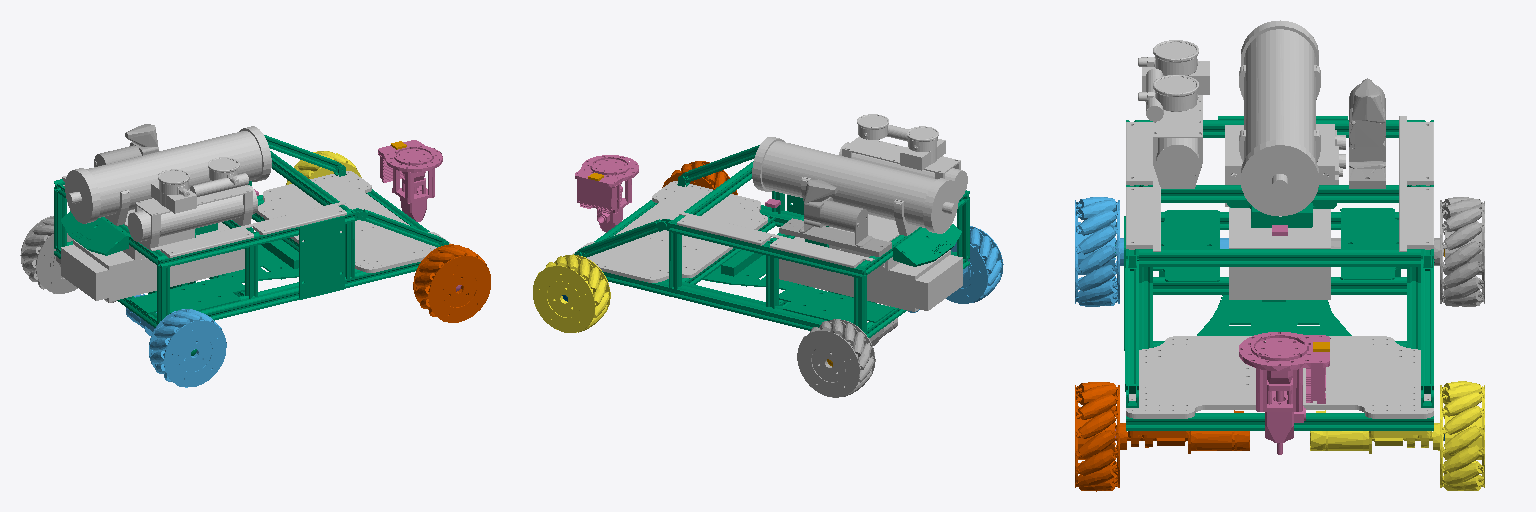
--- Render facts (derived) ---
3 views of the same robot in one strip: view 1: azimuth 30°, elevation 25°; view 2: azimuth 150°, elevation 25°; view 3: azimuth 270°, elevation 25° (orthographic).
Model armstone with 34 links and 33 joints (6 revolute, 4 continuous, 23 fixed), rooted at base_link_footprint, posed all joints at 0.
Links seen in each view (by area): view 1: base_link, material3_link, ic_link, mount_plate_link, battery48_link, motor_gearbox_br, motor_gearbox_fr, extruder_link, cover_plate_link, motor_gearbox_bl, compressor_link, motor_gearbox_fl (+1 smaller); view 2: base_link, material3_link, mount_plate_link, battery48_link, motor_gearbox_bl, ic_link, motor_gearbox_fl, compressor_link, extruder_link, cover_plate_link, motor_gearbox_br, dc_box_link (+1 smaller); view 3: base_link, mount_plate_link, material3_link, cover_plate_link, ic_link, motor_gearbox_fr, motor_gearbox_fl, extruder_link, battery48_link, motor_gearbox_bl, motor_gearbox_br, compressor_link (+1 smaller).
Boxes of the visible links, x1,y1,x2,y2 form: base_link: (54,135,448,327); material3_link: (65,126,271,225); ic_link: (128,157,257,249); mount_plate_link: (256,171,450,272); battery48_link: (61,222,244,301); motor_gearbox_br: (126,294,226,387); motor_gearbox_fr: (413,244,490,322); extruder_link: (378,140,442,221); cover_plate_link: (62,176,346,257); motor_gearbox_bl: (20,216,116,302); compressor_link: (94,124,158,166); motor_gearbox_fl: (286,151,361,184); base_link: (574,145,969,337); material3_link: (752,137,958,235); mount_plate_link: (572,181,767,282); battery48_link: (779,237,962,311); motor_gearbox_bl: (797,305,897,397); ic_link: (839,114,967,199); motor_gearbox_fl: (533,254,610,332); compressor_link: (779,179,891,256); extruder_link: (575,155,638,232); cover_plate_link: (677,212,874,267); motor_gearbox_br: (908,226,1003,312); dc_box_link: (829,214,899,270); base_link: (1124,116,1434,430); mount_plate_link: (1126,336,1433,418); material3_link: (1239,20,1320,216); cover_plate_link: (1126,116,1433,251); ic_link: (1138,40,1209,188); motor_gearbox_fr: (1075,382,1249,491); motor_gearbox_fl: (1310,381,1484,490); extruder_link: (1239,332,1330,454); battery48_link: (1229,207,1330,299); motor_gearbox_bl: (1331,197,1484,306); motor_gearbox_br: (1075,197,1228,306); compressor_link: (1349,78,1385,188).
Size in the robot's own frame: 0.8963 by 0.6045 by 0.4257 metres.
Meshes: 17 distinct files referenced, 13 mesh visuals loaded (10 binary STL); not drawn: 7 (reference not matched to a file when rendering).

robot.urdf — armstone:
<?xml version="1.0" encoding="utf-8"?>
<!-- =================================================================================== -->
<!-- |    This document was autogenerated by xacro from as.xacro                       | -->
<!-- |    EDITING THIS FILE BY HAND IS NOT RECOMMENDED                                 | -->
<!-- =================================================================================== -->
<robot name="armstone" xmlns:controller="http://playerstage.sourceforge.net/gazebo/xmlschema/#controller" xmlns:interface="http://playerstage.sourceforge.net/gazebo/xmlschema/#interface" xmlns:sensor="http://playerstage.sourceforge.net/gazebo/xmlschema/#sensor">
  <!-- alluminium frame only -->
  <material name="Orange">
    <color rgba="1.0 0.4 0.0 1.0"/>
  </material>
  <material name="Grey">
    <color rgba="0.7 0.7 0.7 1.0"/>
  </material>
  <material name="DarkGrey">
    <color rgba="0.3 0.3 0.3 1.0"/>
  </material>
  <material name="White">
    <color rgba="1.0 1.0 1.0 1.0"/>
  </material>
  <material name="Black">
    <color rgba="0.0 0.0 0.0 1.0"/>
  </material>
  <material name="Red">
    <color rgba="1.0 0.0 0.0 1.0"/>
  </material>
  <material name="Green">
    <color rgba="0.0 1.0 0.0 1.0"/>
  </material>
  <material name="Blue">
    <color rgba="0.0 0.0 0.8 1.0"/>
  </material>
  <material name="LightGrey">
    <color rgba="0.82 0.82 0.82 1.0"/>
  </material>
  <material name="OrangeClear">
    <color rgba="1.0 0.4 0.0 .5"/>
  </material>
  <material name="GreyClear">
    <color rgba="0.7 0.7 0.7 .5"/>
  </material>
  <material name="DarkGreyClear">
    <color rgba="0.3 0.3 0.3 .5"/>
  </material>
  <material name="WhiteClear">
    <color rgba="1.0 1.0 1.0 .5"/>
  </material>
  <material name="BlackClear">
    <color rgba="0.0 0.0 0.0 .5"/>
  </material>
  <material name="RedClear">
    <color rgba="1.0 0.0 0.0 .5"/>
  </material>
  <material name="GreenClear">
    <color rgba="0.0 1.0 0.0 .5"/>
  </material>
  <material name="BlueClear">
    <color rgba="0.0 0.0 0.8 .5"/>
  </material>
  <material name="LightGreyClear">
    <color rgba="0.82 0.82 0.82 .5"/>
  </material>
  
      iption)/urdf/base/as_base.macro.xacro&quot; /&gt;
      
      
  
      iption)/urdf/base/as_base.macro.xacro&quot; /&gt;
      
      
  <!-- Projection of base_link origin to xy plane -->
  <link name="base_link_footprint"/>
  <joint name="joint0" type="fixed">
    <parent link="base_link_footprint"/>
    <child link="base_link_base"/>
    <origin rpy="0 0 0" xyz="0 0 0.1005"/>
  </joint>
  <!-- Projection of base_link origin to bottom of baselink collision box (i.e. raised only by wheels) -->
  <link name="base_link_base"/>
  <joint name="joint1" type="fixed">
    <parent link="base_link_base"/>
    <child link="base_link"/>
    <origin rpy="0 0 0" xyz="0 0 0.086"/>
  </joint>
  <!-- baselink -->
  <link name="base_link">
    <inertial>
      <origin rpy="0 0 0" xyz="0 0 0"/>
      <mass value="3.5"/>
      <inertia ixx="0.0690109583333" ixy="0" ixz="0" iyy="0.159828666667" iyz="0" izz="0.211582291667"/>
    </inertial>
    <visual>
      <origin rpy="0 0 0" xyz="0.35 0 -0.072"/>
      <geometry>
        <mesh filename="package://as_description/meshes/chasis.stl"/>
      </geometry>
    </visual>
    <collision>
      <origin rpy="0 0 0" xyz="-0.125 0 0"/>
      <geometry>
        <box size="0.47 0.455 0.172"/>
      </geometry>
    </collision>
    <collision>
      <origin rpy="0 0 0" xyz="0 0 -0.071"/>
      <geometry>
        <box size="0.72 0.455 0.035"/>
      </geometry>
    </collision>
    <collision>
      <origin rpy="0 -1.0471975512 0" xyz="0.235 0.2175 0.015"/>
      <geometry>
        <box size=" 0.025 0.025 0.29"/>
      </geometry>
    </collision>
    <collision>
      <origin rpy="0 -1.0471975512 0" xyz="0.235 -0.2175 0.015"/>
      <geometry>
        <box size=" 0.025 0.025 0.29"/>
      </geometry>
    </collision>
    <gazebo reference="base_link">
      <material>Gazebo/DarkGrey</material>
    </gazebo>
  </link>
  <link name="motor_gearbox_fl">
    <inertial>
      <origin rpy="0 0 0" xyz="0 0 0"/>
      <mass value="0.5"/>
      <inertia ixx="0.00209479166667" ixy="0" ixz="0" iyy="0.00209479166667" iyz="0" izz="0.00015625"/>
    </inertial>
    <visual>
      <origin rpy="1.57079632679 -1.57079632679 0" xyz="0 0.0245 0.025"/>
      <geometry>
        <mesh filename="package://as_description/meshes/motor.stl"/>
      </geometry>
    </visual>
    <collision>
      <geometry>
        <cylinder length="0.22" radius="0.025"/>
      </geometry>
    </collision>
  </link>
  <joint name="motor_wheel_joint_fl" type="continuous">
    <parent link="motor_gearbox_fl"/>
    <child link="omniwheel_fl"/>
    <origin rpy="0 0.785398163397 0" xyz="0 0 0.11"/>
    <axis xyz="-1 0 0"/>
    <limit effort="100" velocity="5"/>
    <dynamics damping="1.5" friction="1.0"/>
  </joint>
  <transmission name="motor_wheel_joint_transmission_fl">
    <type>transmission_interface/SimpleTransmission</type>
    <joint name="motor_wheel_joint_fl">
      <hardwareInterface>hardware_interface/VelocityJointInterface</hardwareInterface>
    </joint>
    <actuator name="motor_wheel_joint_actuator_fl">
      <mechanicalReduction>1</mechanicalReduction>
      <hardwareInterface>VelocityJointInterface</hardwareInterface>
    </actuator>
  </transmission>
  <link name="omniwheel_fl">
    <inertial>
      <origin rpy="0 0 0" xyz="0 0 0"/>
      <mass value="0.6"/>
      <inertia ixx="0.00034656" ixy="0" ixz="0" iyy="0.00034656" iyz="0" izz="0.00034656"/>
    </inertial>
    <!-- No visual. -->
    <collision>
      <geometry>
        <sphere radius="0.076"/>
      </geometry>
    </collision>
    <visual>
      <!-- dummy visual so gazebo doesnt freakout -->
      <geometry>
        <sphere radius="0.0253333333333"/>
      </geometry>
    </visual>
    <surface>
      <bounce restitution_coefficient="0.0001"/>
    </surface>
  </link>
  <gazebo reference="omniwheel_fl">
    <!-- not sure if mu or mu1 is used -->
    <mu1 value="0.15"/>
    <mu2 value="1.5"/>
    <kp value="10000000.0"/>
    <kd value="10000.0"/>
    <fdir1 value="1 0 0"/>
    <!-- <maxContacts value= "1"/> -->
    <material>Gazebo/White</material>
  </gazebo>
  <link name="motor_gearbox_fr">
    <inertial>
      <origin rpy="0 0 0" xyz="0 0 0"/>
      <mass value="0.5"/>
      <inertia ixx="0.00209479166667" ixy="0" ixz="0" iyy="0.00209479166667" iyz="0" izz="0.00015625"/>
    </inertial>
    <visual>
      <origin rpy="1.57079632679 -1.57079632679 0" xyz="0 0.0245 0.025"/>
      <geometry>
        <mesh filename="package://as_description/meshes/motor.stl"/>
      </geometry>
    </visual>
    <collision>
      <geometry>
        <cylinder length="0.22" radius="0.025"/>
      </geometry>
    </collision>
  </link>
  <joint name="motor_wheel_joint_fr" type="continuous">
    <parent link="motor_gearbox_fr"/>
    <child link="omniwheel_fr"/>
    <origin rpy="0 -0.785398163397 0" xyz="0 0 0.11"/>
    <axis xyz="-1 0 0"/>
    <limit effort="100" velocity="5"/>
    <dynamics damping="1.5" friction="1.0"/>
  </joint>
  <transmission name="motor_wheel_joint_transmission_fr">
    <type>transmission_interface/SimpleTransmission</type>
    <joint name="motor_wheel_joint_fr">
      <hardwareInterface>hardware_interface/VelocityJointInterface</hardwareInterface>
    </joint>
    <actuator name="motor_wheel_joint_actuator_fr">
      <mechanicalReduction>1</mechanicalReduction>
      <hardwareInterface>VelocityJointInterface</hardwareInterface>
    </actuator>
  </transmission>
  <link name="omniwheel_fr">
    <inertial>
      <origin rpy="0 0 0" xyz="0 0 0"/>
      <mass value="0.6"/>
      <inertia ixx="0.00034656" ixy="0" ixz="0" iyy="0.00034656" iyz="0" izz="0.00034656"/>
    </inertial>
    <!-- No visual. -->
    <collision>
      <geometry>
        <sphere radius="0.076"/>
      </geometry>
    </collision>
    <visual>
      <!-- dummy visual so gazebo doesnt freakout -->
      <geometry>
        <sphere radius="0.0253333333333"/>
      </geometry>
    </visual>
    <surface>
      <bounce restitution_coefficient="0.0001"/>
    </surface>
  </link>
  <gazebo reference="omniwheel_fr">
    <!-- not sure if mu or mu1 is used -->
    <mu1 value="0.15"/>
    <mu2 value="1.5"/>
    <kp value="10000000.0"/>
    <kd value="10000.0"/>
    <fdir1 value="1 0 0"/>
    <!-- <maxContacts value= "1"/> -->
    <material>Gazebo/White</material>
  </gazebo>
  <link name="motor_gearbox_bl">
    <inertial>
      <origin rpy="0 0 0" xyz="0 0 0"/>
      <mass value="0.5"/>
      <inertia ixx="0.00209479166667" ixy="0" ixz="0" iyy="0.00209479166667" iyz="0" izz="0.00015625"/>
    </inertial>
    <visual>
      <origin rpy="1.57079632679 -1.57079632679 0" xyz="0 0.0245 0.025"/>
      <geometry>
        <mesh filename="package://as_description/meshes/motor.stl"/>
      </geometry>
    </visual>
    <collision>
      <geometry>
        <cylinder length="0.22" radius="0.025"/>
      </geometry>
    </collision>
  </link>
  <joint name="motor_wheel_joint_bl" type="continuous">
    <parent link="motor_gearbox_bl"/>
    <child link="omniwheel_bl"/>
    <origin rpy="0 -0.785398163397 0" xyz="0 0 0.11"/>
    <axis xyz="1 0 0"/>
    <limit effort="100" velocity="5"/>
    <dynamics damping="1.5" friction="1.0"/>
  </joint>
  <transmission name="motor_wheel_joint_transmission_bl">
    <type>transmission_interface/SimpleTransmission</type>
    <joint name="motor_wheel_joint_bl">
      <hardwareInterface>hardware_interface/VelocityJointInterface</hardwareInterface>
    </joint>
    <actuator name="motor_wheel_joint_actuator_bl">
      <mechanicalReduction>1</mechanicalReduction>
      <hardwareInterface>VelocityJointInterface</hardwareInterface>
    </actuator>
  </transmission>
  <link name="omniwheel_bl">
    <inertial>
      <origin rpy="0 0 0" xyz="0 0 0"/>
      <mass value="0.6"/>
      <inertia ixx="0.00034656" ixy="0" ixz="0" iyy="0.00034656" iyz="0" izz="0.00034656"/>
    </inertial>
    <!-- No visual. -->
    <collision>
      <geometry>
        <sphere radius="0.076"/>
      </geometry>
    </collision>
    <visual>
      <!-- dummy visual so gazebo doesnt freakout -->
      <geometry>
        <sphere radius="0.0253333333333"/>
      </geometry>
    </visual>
    <surface>
      <bounce restitution_coefficient="0.0001"/>
    </surface>
  </link>
  <gazebo reference="omniwheel_bl">
    <!-- not sure if mu or mu1 is used -->
    <mu1 value="0.15"/>
    <mu2 value="1.5"/>
    <kp value="10000000.0"/>
    <kd value="10000.0"/>
    <fdir1 value="1 0 0"/>
    <!-- <maxContacts value= "1"/> -->
    <material>Gazebo/White</material>
  </gazebo>
  <link name="motor_gearbox_br">
    <inertial>
      <origin rpy="0 0 0" xyz="0 0 0"/>
      <mass value="0.5"/>
      <inertia ixx="0.00209479166667" ixy="0" ixz="0" iyy="0.00209479166667" iyz="0" izz="0.00015625"/>
    </inertial>
    <visual>
      <origin rpy="1.57079632679 -1.57079632679 0" xyz="0 0.0245 0.025"/>
      <geometry>
        <mesh filename="package://as_description/meshes/motor.stl"/>
      </geometry>
    </visual>
    <collision>
      <geometry>
        <cylinder length="0.22" radius="0.025"/>
      </geometry>
    </collision>
  </link>
  <joint name="motor_wheel_joint_br" type="continuous">
    <parent link="motor_gearbox_br"/>
    <child link="omniwheel_br"/>
    <origin rpy="0 0.785398163397 0" xyz="0 0 0.11"/>
    <axis xyz="1 0 0"/>
    <limit effort="100" velocity="5"/>
    <dynamics damping="1.5" friction="1.0"/>
  </joint>
  <transmission name="motor_wheel_joint_transmission_br">
    <type>transmission_interface/SimpleTransmission</type>
    <joint name="motor_wheel_joint_br">
      <hardwareInterface>hardware_interface/VelocityJointInterface</hardwareInterface>
    </joint>
    <actuator name="motor_wheel_joint_actuator_br">
      <mechanicalReduction>1</mechanicalReduction>
      <hardwareInterface>VelocityJointInterface</hardwareInterface>
    </actuator>
  </transmission>
  <link name="omniwheel_br">
    <inertial>
      <origin rpy="0 0 0" xyz="0 0 0"/>
      <mass value="0.6"/>
      <inertia ixx="0.00034656" ixy="0" ixz="0" iyy="0.00034656" iyz="0" izz="0.00034656"/>
    </inertial>
    <!-- No visual. -->
    <collision>
      <geometry>
        <sphere radius="0.076"/>
      </geometry>
    </collision>
    <visual>
      <!-- dummy visual so gazebo doesnt freakout -->
      <geometry>
        <sphere radius="0.0253333333333"/>
      </geometry>
    </visual>
    <surface>
      <bounce restitution_coefficient="0.0001"/>
    </surface>
  </link>
  <gazebo reference="omniwheel_br">
    <!-- not sure if mu or mu1 is used -->
    <mu1 value="0.15"/>
    <mu2 value="1.5"/>
    <kp value="10000000.0"/>
    <kd value="10000.0"/>
    <fdir1 value="1 0 0"/>
    <!-- <maxContacts value= "1"/> -->
    <material>Gazebo/White</material>
  </gazebo>
  <joint name="motor_wheel_assembly_joint_fl" type="fixed">
    <parent link="base_link"/>
    <child link="motor_gearbox_fl"/>
    <origin rpy="1.57079632679 0 3.14159265359" xyz="0.3215 0.15595 -0.1105"/>
  </joint>
  <joint name="motor_wheel_assembly_joint_fr" type="fixed">
    <parent link="base_link"/>
    <child link="motor_gearbox_fr"/>
    <origin rpy="1.57079632679 0 0" xyz="0.3215 -0.15595 -0.1105"/>
  </joint>
  <joint name="motor_wheel_assembly_joint_bl" type="fixed">
    <parent link="base_link"/>
    <child link="motor_gearbox_bl"/>
    <origin rpy="1.57079632679 0 3.14159265359" xyz="-0.3215 0.15595 -0.1105"/>
  </joint>
  <joint name="motor_wheel_assembly_joint_br" type="fixed">
    <parent link="base_link"/>
    <child link="motor_gearbox_br"/>
    <origin rpy="1.57079632679 0 0" xyz="-0.3215 -0.15595 -0.1105"/>
  </joint>
  <joint name="battery48_joint" type="fixed">
    <parent link="base_link"/>
    <child link="battery48_link"/>
    <origin rpy="0 0 0" xyz="-0.24 0  -0.0235"/>
  </joint>
  <link name="battery48_link">
    <inertial>
      <origin rpy="0 0 0" xyz="0 0 0"/>
      <mass value="6.7"/>
      <inertia ixx="0.0165964583333" ixy="0" ixz="0" iyy="0.0933672916667" iyz="0" izz="0.101895833333"/>
    </inertial>
    <visual>
      <origin rpy="0 0 3.14159265359" xyz="0.035 0 -0.0425"/>
      <geometry>
        <mesh filename="package://as_description/meshes/battery.stl"/>
      </geometry>
      <material name="LightGrey"/>
    </visual>
    <collision>
      <geometry>
        <box size="0.4 0.15 0.085"/>
      </geometry>
    </collision>
  </link>
  <gazebo reference="battery48_link">
    <material>Gazebo/LightGrey</material>
  </gazebo>
  <joint name="dc_box_joint" type="fixed">
    <parent link="base_link"/>
    <child link="dc_box_link"/>
    <origin rpy=" 0 0 0" xyz=" -0.2675 0 0.052"/>
  </joint>
  <link name="dc_box_link">
    <inertial>
      <origin rpy="0 0 0" xyz="0 0 0"/>
      <mass value="1.8"/>
      <inertia ixx="0.00384735" ixy="0" ixz="0" iyy="0.0055536" iyz="0" izz="0.00801375"/>
    </inertial>
    <visual>
      <origin rpy="0 0 1.57079632679 " xyz="0 0 0.034"/>
      <geometry>
        <mesh filename="package://as_description/meshes/dcbox.stl"/>
      </geometry>
      <material name="LightGrey"/>
    </visual>
    <collision>
      <geometry>
        <box size="0.18 0.145 0.068"/>
      </geometry>
    </collision>
  </link>
  <gazebo reference="dc_box_link">
    <material>Gazebo/LightGrey</material>
  </gazebo>
  <joint name="mount_plate_joint" type="fixed">
    <parent link="base_link"/>
    <child link="mount_plate_link"/>
    <origin rpy="0 0 0" xyz=" 0.225 0 -0.062"/>
  </joint>
  <link name="mount_plate_link">
    <inertial>
      <origin rpy="0 0 0" xyz="0 0 0"/>
      <mass value="2.65356"/>
      <inertia ixx="0.04579359057" ixy="0" ixz="0" iyy="0.01613452932" iyz="0" izz="0.06189981525"/>
    </inertial>
    <visual>
      <origin rpy="0 0 1.57079632679" xyz="0 0 -0.004"/>
      <geometry>
        <mesh filename="package://as_description/meshes/mounting_plate.stl"/>
      </geometry>
      <material name="LightGrey"/>
    </visual>
    <collision>
      <geometry>
        <box size="0.27 0.455 0.008"/>
      </geometry>
    </collision>
  </link>
  <gazebo reference="mount_plate_link">
    <material>Gazebo/LightGrey</material>
  </gazebo>
  <joint name="base_imu_module_joint1" type="fixed">
    <parent link="base_link"/>
    <child link="base_imu_module"/>
    <origin rpy="0 0 0" xyz="-0.0125 0  0.066"/>
  </joint>
  <link name="base_imu_module">
    <visual>
      <geometry>
        <box size="0.025 0.025 0.0075"/>
      </geometry>
    </visual>
  </link>
  <joint name="base_imu_module_joint2" type="fixed">
    <parent link="base_imu_module"/>
    <child link="base_imu_frame"/>
    <origin rpy="0 0 0" xyz=" 0.007 0 0"/>
  </joint>
  <link name="base_imu_frame"/>
  <gazebo>
    <plugin filename="libgazebo_ros_imu.so" name="base_imu_plugin">
      <alwaysOn>true</alwaysOn>
      <bodyName>base_imu_frame</bodyName>
      <topicName>as_sensors/base_imu</topicName>
      <serviceName>as_sensors/base_imu_service</serviceName>
      <gaussianNoise>0.32</gaussianNoise>
      <updateRate>100.0</updateRate>
    </plugin>
  </gazebo>
  <joint name="compressor_joint" type="fixed">
    <parent link="base_link"/>
    <child link="compressor_link"/>
    <origin rpy="0 0 0" xyz="-0.239 0.1287 0.146"/>
  </joint>
  <link name="compressor_link">
    <inertial>
      <origin rpy="0 0 0" xyz="0 0 0"/>
      <mass value="1.1"/>
      <inertia ixx="0.00159729166667" ixy="0" ixz="0" iyy="0.00668836666667" iyz="0" izz="0.00564565833333"/>
    </inertial>
    <visual>
      <origin rpy="0 0 0" xyz="0 0 -0.06"/>
      <geometry>
        <mesh filename="package://as_description/meshes/compressor_assembly.stl"/>
      </geometry>
      <material name="Grey"/>
    </visual>
    <collision>
      <geometry>
        <box size="0.242 0.055 0.12"/>
      </geometry>
    </collision>
  </link>
  <gazebo reference="compressor_link">
    <material>Gazebo/Grey</material>
  </gazebo>
  <joint name="material3_joint" type="fixed">
    <parent link="base_link"/>
    <child link="material3_link"/>
    <origin rpy="0 1.57079632679 0" xyz="-0.209 0 0.1585"/>
  </joint>
  <link name="material3_link">
    <inertial>
      <origin rpy="0 0 0" xyz="0 0 0"/>
      <mass value="5.28"/>
      <inertia ixx="0.08125425" ixy="0" ixz="0" iyy="0.08125425" iyz="0" izz="0.0072765"/>
    </inertial>
    <visual>
      <origin rpy="0 -1.57079632679 0" xyz="0.0725  0  0.084"/>
      <geometry>
        <mesh filename="package://as_description/meshes/clay_assembly.stl"/>
      </geometry>
      <material name="LightGrey"/>
    </visual>
    <collision>
      <geometry>
        <cylinder length="0.42" radius="0.0525"/>
      </geometry>
    </collision>
  </link>
  <gazebo reference="material3_link">
    <material>Gazebo/LightGrey</material>
  </gazebo>
  <joint name="cover_plate_joint" type="fixed">
    <parent link="base_link"/>
    <child link="cover_plate_link"/>
    <origin rpy="0 0 0" xyz="-0.125 0 0.086"/>
  </joint>
  <link name="cover_plate_link">
    <inertial>
      <origin rpy="0 0 0" xyz="0 0 0"/>
      <mass value="0.2"/>
      <inertia ixx="0.0033756" ixy="0" ixz="0" iyy="0.00368226666667" iyz="0" izz="0.00705666666667"/>
    </inertial>
    <visual>
      <origin rpy="0 0 0" xyz="0 0 0"/>
      <geometry>
        <mesh filename="package://as_description/meshes/cover_assembly_.stl"/>
      </geometry>
      <material name="LightGrey"/>
    </visual>
    <collision>
      <geometry>
        <box size="0.47 0.45 0.006"/>
      </geometry>
    </collision>
  </link>
  <gazebo reference="cover_plate_link">
    <material>Gazebo/LightGrey</material>
  </gazebo>
  <joint name="ic_joint" type="fixed">
    <parent link="base_link"/>
    <child link="ic_link"/>
    <origin rpy="0 0 0" xyz="-0.235 -0.1505  0.1585"/>
  </joint>
  <link name="ic_link">
    <inertial>
      <origin rpy="0 0 0" xyz="0 0 0"/>
      <mass value="0.4"/>
      <inertia ixx="0.000883366666667" ixy="0" ixz="0" iyy="0.00331416666667" iyz="0" izz="0.00279586666667"/>
    </inertial>
    <visual>
      <origin rpy="0 0 0" xyz="0.11 0 -0.0725"/>
      <geometry>
        <mesh filename="package://as_description/meshes/intermediate_assembly.stl"/>
      </geometry>
      <material name="LightGrey"/>
    </visual>
    <collision>
      <geometry>
        <box size="0.28 0.074 0.145"/>
      </geometry>
    </collision>
  </link>
  <gazebo reference="ic_link">
    <material>Gazebo/LightGrey</material>
  </gazebo>
  <joint name="backpack_joint" type="fixed">
    <parent link="base_link"/>
    <child link="backpack_link"/>
    <origin rpy="0 0 0" xyz="-0.16 0  0.176"/>
  </joint>
  <link name="backpack_link">
    <collision>
      <geometry>
        <box size="0.4 0.4 0.18"/>
      </geometry>
    </collision>
  </link>
  <!-- explicit xarm_mount for easier robcogen -->
  <link name="xarm_mount">   
      </link>
  <joint name="xarm_mount_joint" type="fixed">
    <parent link="base_link"/>
    <child link="xarm_mount"/>
    <origin rpy="0 0 0" xyz="0.175 0 -0.053"/>
  </joint>
  <!--
  Author: Jason Peng <[email redacted]>
  Contributers:
-->
  <joint name="xarmworld_joint" type="fixed">
    <parent link="xarm_mount"/>
    <child link="xarmlink_base"/>
    <origin rpy="0 0 0" xyz="0 0 0"/>
  </joint>
  <material name="xarmBlack">
    <color rgba="0.0 0.0 0.0 1.0"/>
  </material>
  <material name="xarmRed">
    <color rgba="0.8 0.0 0.0 1.0"/>
  </material>
  <material name="xarmWhite">
    <color rgba="1.0 1.0 1.0 1.0"/>
  </material>
  <material name="xarmSilver">
    <color rgba="0.753 0.753 0.753 1.0"/>
  </material>
  <link name="xarmlink_base">
    <visual>
      <geometry>
        <mesh filename="package://xarm_description/meshes/xarm6/visual/base.stl"/>
      </geometry>
      <origin rpy="0 0 0" xyz="0 0 0"/>
      <material name="xarmWhite"/>
    </visual>
    <collision>
      <geometry>
        <mesh filename="package://xarm_description/meshes/xarm6/visual/base.stl"/>
      </geometry>
      <origin rpy="0 0 0" xyz="0 0 0"/>
    </collision>
    <inertial>
      <origin rpy="0 0 0" xyz="0.0 0.0 0.09103"/>
      <mass value="2.7"/>
      <inertia ixx="0.00494875" ixy="-3.5E-06" ixz="1.25E-05" iyy="0.00494174" iyz="1.67E-06" izz="0.002219"/>
    </inertial>
  </link>
  <link name="xarmlink1">
    <visual>
      <geometry>
        <mesh filename="package://xarm_description/meshes/xarm6/visual/link1.stl"/>
      </geometry>
      <origin rpy="0 0 0" xyz="0 0 0"/>
      <material name="xarmWhite"/>
    </visual>
    <collision>
      <geometry>
        <mesh filename="package://xarm_description/meshes/xarm6/visual/link1.stl"/>
      </geometry>
      <origin rpy="0 0 0" xyz="0 0 0"/>
    </collision>
    <inertial>
      <origin rpy="0 0 0" xyz="-0.002 0.02692 -0.01332"/>
      <mass value="2.16"/>
      <inertia ixx="0.00539427" ixy="1.095E-05" ixz="1.635E-06" iyy="0.0048979" iyz="0.000793" izz="0.00311573"/>
    </inertial>
  </link>
  <joint name="xarmjoint1" type="revolute">
    <parent link="xarmlink_base"/>
    <child link="xarmlink1"/>
    <origin rpy="0 0 0" xyz="0 0 0.267"/>
    <axis xyz="0 0 1"/>
    <limit effort="50.0" lower="-3.11017672705" upper="3.11017672705" velocity="3.14"/>
    <dynamics damping="1.0" friction="1.0"/>
  </joint>
  <link name="xarmlink2">
    <visual>
      <geometry>
        <mesh filename="package://xarm_description/meshes/xarm6/visual/link2.stl"/>
      </geometry>
      <origin rpy="0 0 0" xyz="0 0 0"/>
      <material name="xarmWhite"/>
    </visual>
    <collision>
      <geometry>
        <mesh filename="package://xarm_description/meshes/xarm6/visual/link2.stl"/>
      </geometry>
      <origin rpy="0 0 0" xyz="0 0 0"/>
    </collision>
    <inertial>
      <origin rpy="0 0 0" xyz="0.03531 -0.21398 0.03386"/>
      <mass value="1.71"/>
      <inertia ixx="0.0248674" ixy="-0.00430651" ixz="-0.00067797" iyy="0.00485548" iyz="0.00457245" izz="0.02387827"/>
    </inertial>
  </link>
  <joint name="xarmjoint2" type="revolute">
    <parent link="xarmlink1"/>
    <child link="xarmlink2"/>
    <origin rpy="-1.5708 0 0" xyz="0 0 0"/>
    <axis xyz="0 0 1"/>
    <limit effort="50.0" lower="-2.059" upper="2.0944" velocity="3.14"/>
    <dynamics damping="1.0" friction="1.0"/>
  </joint>
  <link name="xarmlink3">
    <visual>
      <geometry>
        <mesh filename="package://xarm_description/meshes/xarm6/visual/link3.stl"/>
      </geometry>
      <origin rpy="0 0 0" xyz="0 0 0"/>
      <material name="xarmWhite"/>
    </visual>
    <collision>
      <geometry>
        <mesh filename="package://xarm_description/meshes/xarm6/visual/link3.stl"/>
      </geometry>
      <origin rpy="0 0 0" xyz="0 0 0"/>
    </collision>
    <inertial>
      <origin rpy="0 0 0" xyz="0.06781 0.10749 0.01457"/>
      <mass value="1.384"/>
      <inertia ixx="0.0053694" ixy="0.0014185" ixz="-0.00092094" iyy="0.0032423" iyz="-0.00169178" izz="0.00501731"/>
    </inertial>
  </link>
  <joint name="xarmjoint3" type="revolute">
    <parent link="xarmlink2"/>
    <child link="xarmlink3"/>
    <origin rpy="0 0 0" xyz="0.0535 -0.2845 0"/>
    <axis xyz="0 0 1"/>
    <limit effort="32.0" lower="-3.11017672705" upper="0.19198" velocity="3.14"/>
    <dynamics damping="1.0" friction="1.0"/>
  </joint>
  <link name="xarmlink4">
    <visual>
      <geometry>
        <mesh filename="package://xarm_description/meshes/xarm6/visual/link4.stl"/>
      </geometry>
      <origin rpy="0 0 0" xyz="0 0 0"/>
      <material name="xarmWhite"/>
    </visual>
    <collision>
      <geometry>
        <mesh filename="package://xarm_description/meshes/xarm6/visual/link4.stl"/>
      </geometry>
      <origin rpy="0 0 0" xyz="0 0 0"/>
    </collision>
    <inertial>
      <origin rpy="0 0 0" xyz="-0.00021 0.02578 -0.02538"/>
      <mass value="1.115"/>
      <inertia ixx="0.00439263" ixy="5.028E-05" ixz="1.374E-05" iyy="0.0040077" iyz="0.00045338" izz="0.00110321"/>
    </inertial>
  </link>
  <joint name="xarmjoint4" type="revolute">
    <parent link="xarmlink3"/>
    <child link="xarmlink4"/>
    <origin rpy="-1.5708 0 0" xyz="0.0775 0.3425 0"/>
    <axis xyz="0 0 1"/>
    <limit effort="32.0" lower="-3.11017672705" upper="3.11017672705" velocity="3.14"/>
    <dynamics damping="1.0" friction="1.0"/>
  </joint>
  <link name="xarmlink5">
    <visual>
      <geometry>
        <mesh filename="package://xarm_description/meshes/xarm6/visual/link5.stl"/>
      </geometry>
      <origin rpy="0 0 0" xyz="0 0 0"/>
      <material name="xarmWhite"/>
    </visual>
    <collision>
      <geometry>
        <mesh filename="package://xarm_description/meshes/xarm6/visual/link5.stl"/>
      </geometry>
      <origin rpy="0 0 0" xyz="0 0 0"/>
    </collision>
    <inertial>
      <origin rpy="0 0 0" xyz="0.05428 0.01781 0.00543"/>
      <mass value="1.275"/>
      <inertia ixx="0.001202758" ixy="0.000492428" ixz="-0.00039147" iyy="0.0022876" iyz="-1.235E-04" izz="0.0026866"/>
    </inertial>
  </link>
  <joint name="xarmjoint5" type="revolute">
    <parent link="xarmlink4"/>
    <child link="xarmlink5"/>
    <origin rpy="1.5708 0 0" xyz="0 0 0"/>
    <axis xyz="0 0 1"/>
    <limit effort="32.0" lower="-1.69297" upper="3.11017672705" velocity="3.14"/>
    <dynamics damping="1.0" friction="1.0"/>
  </joint>
  <link name="xarmlink6">
    <visual>
      <geometry>
        <mesh filename="package://xarm_description/meshes/xarm6/visual/link6.stl"/>
      </geometry>
      <origin rpy="0 0 0" xyz="0 0 0"/>
      <material name="xarmSilver"/>
    </visual>
    <collision>
      <geometry>
        <mesh filename="package://xarm_description/meshes/xarm6/visual/link6.stl"/>
      </geometry>
      <origin rpy="0 0 0" xyz="0 0 0"/>
    </collision>
    <inertial>
      <origin rpy="0 0 0" xyz="0 0.00064 -0.00952"/>
      <mass value="0.1096"/>
      <inertia ixx="4.5293E-05" ixy="0" ixz="0" iyy="4.8111E-05" iyz="0" izz="7.9715E-05"/>
    </inertial>
  </link>
  <joint name="xarmjoint6" type="revolute">
    <parent link="xarmlink5"/>
    <child link="xarmlink6"/>
    <origin rpy="-1.5708 0 0" xyz="0.076 0.097 0"/>
    <axis xyz="0 0 1"/>
    <limit effort="20.0" lower="-3.11017672705" upper="3.11017672705" velocity="3.14"/>
    <dynamics damping="1.0" friction="1.0"/>
  </joint>
  <link name="xarmlink_eef"/>
  <joint name="xarmjoint_eef" type="fixed">
    <origin rpy="0 0 0" xyz="0 0 0"/>
    <parent link="xarmlink6"/>
    <child link="xarmlink_eef"/>
  </joint>
  <transmission name="xarmtran1">
    <type>transmission_interface/SimpleTransmission</type>
    <joint name="xarmjoint1">
      <hardwareInterface>hardware_interface/PositionJointInterface</hardwareInterface>
    </joint>
    <actuator name="xarmmotor1">
      <hardwareInterface>hardware_interface/PositionJointInterface</hardwareInterface>
      <mechanicalReduction>100</mechanicalReduction>
    </actuator>
  </transmission>
  <transmission name="xarmtran2">
    <type>transmission_interface/SimpleTransmission</type>
    <joint name="xarmjoint2">
      <hardwareInterface>hardware_interface/PositionJointInterface</hardwareInterface>
    </joint>
    <actuator name="xarmmotor2">
      <hardwareInterface>hardware_interface/PositionJointInterface</hardwareInterface>
      <mechanicalReduction>100</mechanicalReduction>
    </actuator>
  </transmission>
  <transmission name="xarmtran3">
    <type>transmission_interface/SimpleTransmission</type>
    <joint name="xarmjoint3">
      <hardwareInterface>hardware_interface/PositionJointInterface</hardwareInterface>
    </joint>
    <actuator name="xarmmotor3">
      <hardwareInterface>hardware_interface/PositionJointInterface</hardwareInterface>
      <mechanicalReduction>100</mechanicalReduction>
    </actuator>
  </transmission>
  <transmission name="xarmtran4">
    <type>transmission_interface/SimpleTransmission</type>
    <joint name="xarmjoint4">
      <hardwareInterface>hardware_interface/PositionJointInterface</hardwareInterface>
    </joint>
    <actuator name="xarmmotor3">
      <hardwareInterface>hardware_interface/PositionJointInterface</hardwareInterface>
      <mechanicalReduction>100</mechanicalReduction>
    </actuator>
  </transmission>
  <transmission name="xarmtran5">
    <type>transmission_interface/SimpleTransmission</type>
    <joint name="xarmjoint5">
      <hardwareInterface>hardware_interface/PositionJointInterface</hardwareInterface>
    </joint>
    <actuator name="xarmmotor5">
      <hardwareInterface>hardware_interface/PositionJointInterface</hardwareInterface>
      <mechanicalReduction>100</mechanicalReduction>
    </actuator>
  </transmission>
  <transmission name="xarmtran6">
    <type>transmission_interface/SimpleTransmission</type>
    <joint name="xarmjoint6">
      <hardwareInterface>hardware_interface/PositionJointInterface</hardwareInterface>
    </joint>
    <actuator name="xarmmotor6">
      <hardwareInterface>hardware_interface/PositionJointInterface</hardwareInterface>
      <mechanicalReduction>100</mechanicalReduction>
    </actuator>
  </transmission>
  <gazebo reference="xarmlink_base">
    <selfCollide>true</selfCollide>
  </gazebo>
  <gazebo reference="xarmlink1">
    <selfCollide>true</selfCollide>
  </gazebo>
  <gazebo reference="xarmlink2">
    <selfCollide>true</selfCollide>
  </gazebo>
  <gazebo reference="xarmlink3">
    <selfCollide>true</selfCollide>
  </gazebo>
  <gazebo reference="xarmlink4">
    <selfCollide>true</selfCollide>
  </gazebo>
  <gazebo reference="xarmlink5">
    <selfCollide>true</selfCollide>
  </gazebo>
  <gazebo reference="xarmlink6">
    <selfCollide>true</selfCollide>
  </gazebo>
  <joint name="extruder_joint" type="fixed">
    <parent link="xarmlink_eef"/>
    <child link="extruder_link"/>
    <origin rpy="0 0 -1.57079632679" xyz="0 0 0.085"/>
  </joint>
  <link name="extruder_link">
    <inertial>
      <origin rpy="0 0 0" xyz="0 0 0"/>
      <mass value="1.05"/>
      <inertia ixx="0.003185" ixy="0" ixz="0" iyy="0.003185" iyz="0" izz="0.0013125"/>
    </inertial>
    <visual>
      <origin rpy="0 0 0" xyz="0 0 -0.085"/>
      <geometry>
        <mesh filename="package://as_description/meshes/extruder.stl"/>
      </geometry>
    </visual>
    <collision>
      <origin rpy="0 0 0" xyz="0 0 -0.085"/>
      <geometry>
        <mesh filename="package://as_description/meshes/extruder_collision.stl"/>
      </geometry>
    </collision>
  </link>
  <link name="extruder_ee"/>
  <joint name="extruder_ee_joint" type="fixed">
    <parent link="extruder_link"/>
    <child link="extruder_ee"/>
    <origin rpy="0 0 0" xyz="0 0 0.085"/>
  </joint>
  <joint name="ee_imu_module_joint1" type="fixed">
    <parent link="xarmlink_eef"/>
    <child link="ee_imu_module"/>
    <origin rpy="0 3.14159265359 0" xyz="0 -0.06125 0"/>
  </joint>
  <link name="ee_imu_module">
    <visual>
      <geometry>
        <box size="0.025 0.025 0.0075"/>
      </geometry>
    </visual>
  </link>
  <joint name="ee_imu_module_joint2" type="fixed">
    <parent link="ee_imu_module"/>
    <child link="ee_imu_frame"/>
    <origin rpy="0 0 0" xyz=" 0.007 0 0"/>
  </joint>
  <link name="ee_imu_frame"/>
  <gazebo>
    <plugin filename="libgazebo_ros_imu.so" name="ee_imu_plugin">
      <alwaysOn>true</alwaysOn>
      <bodyName>ee_imu_frame</bodyName>
      <topicName>as_sensors/ee_imu</topicName>
      <serviceName>as_sensors/ee_imu_service</serviceName>
      <gaussianNoise>0.32</gaussianNoise>
      <updateRate>100.0</updateRate>
    </plugin>
  </gazebo>
  <!-- Gazebo: My current understanding is that libgazebo_ros_control is a per-model-plugin
      and most recent spawn will override the last one. So there is no nice way to namespace this.
      Therefore the approach here disables individual base/arm plugins and launches a common one -->
  <gazebo>
    <plugin filename="libgazebo_ros_control.so" name="armstone_gazebo_ros_control">
      <robotNamespace>/as_control</robotNamespace>
    </plugin>
  </gazebo>
</robot>
